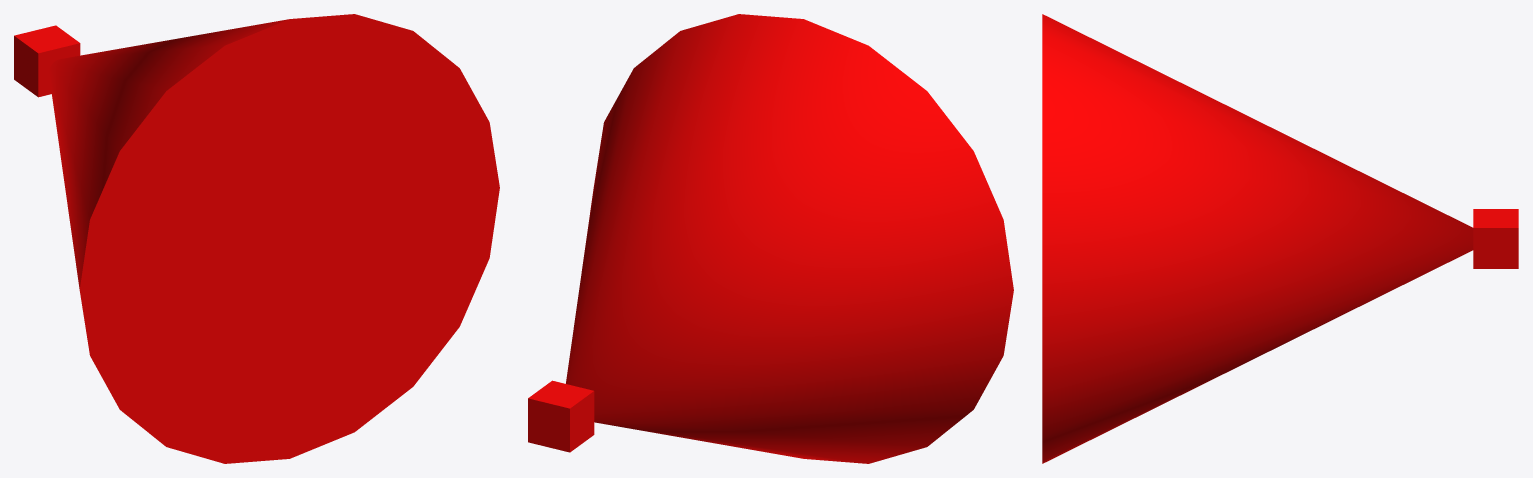
File: Enemy.fbx
3 renders of one model, left to right at view 1: azimuth 30°, elevation 25°; view 2: azimuth 150°, elevation 25°; view 3: azimuth 270°, elevation 25°, orthographic. The views are drawn at different scales.
Parts seen in each view (by area): view 1: pCone2; view 2: pCone2; view 3: pCone2.
Boxes of the visible parts, x1=… form: pCone2: x1=14, y1=14, x2=499, y2=463; pCone2: x1=528, y1=14, x2=1013, y2=463; pCone2: x1=1042, y1=14, x2=1518, y2=463.
Bounding box in the file's own units: 20 × 20 × 21.
